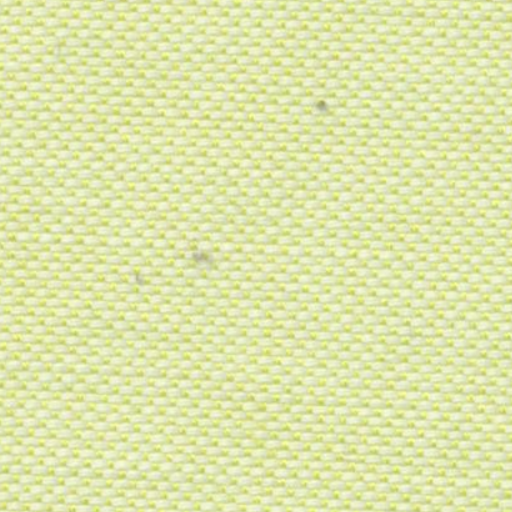WuZi: (132, 234, 222, 290), (298, 84, 340, 126)
